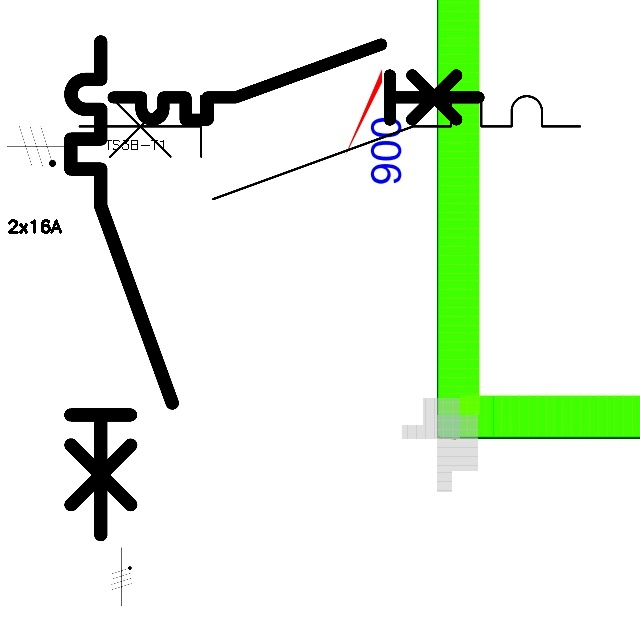interruptor_termomagnetico: (66, 83, 592, 212), (58, 29, 185, 547), (104, 35, 488, 129)
